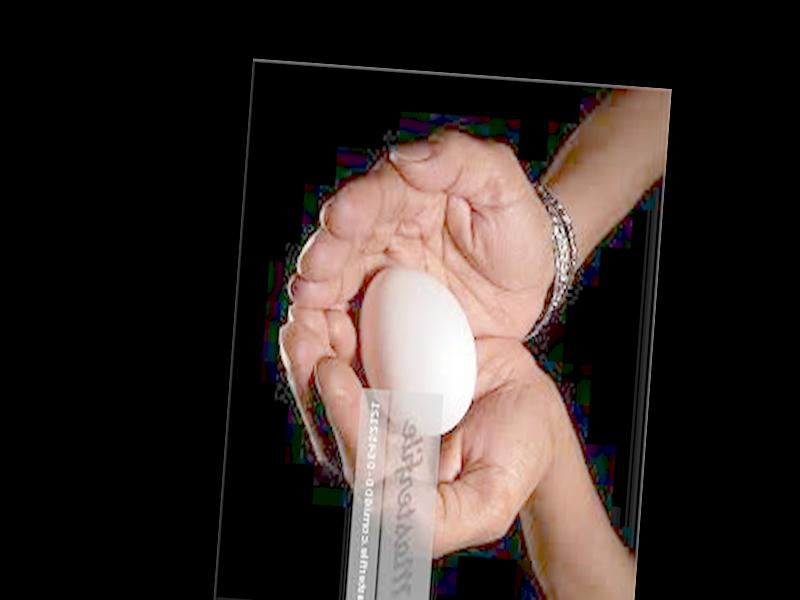Eggs: (350, 263, 484, 438)
